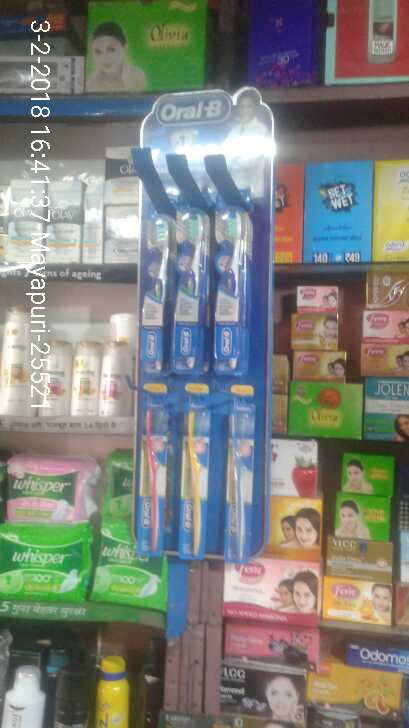beauty: (2, 309, 138, 424), (43, 179, 84, 266), (4, 178, 45, 262)
pharmacy: (1, 530, 93, 600), (5, 458, 86, 525), (141, 215, 168, 362), (178, 213, 205, 360), (221, 213, 248, 360), (228, 414, 255, 561), (179, 406, 206, 553), (135, 416, 162, 563)
